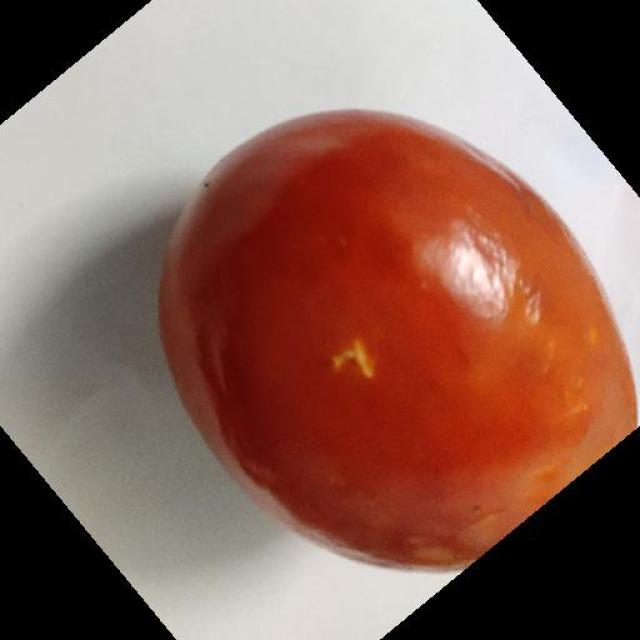Stale_tomato: (164, 127, 609, 533)
